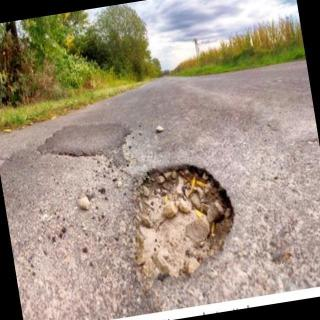pothole: (136, 165, 234, 289)
